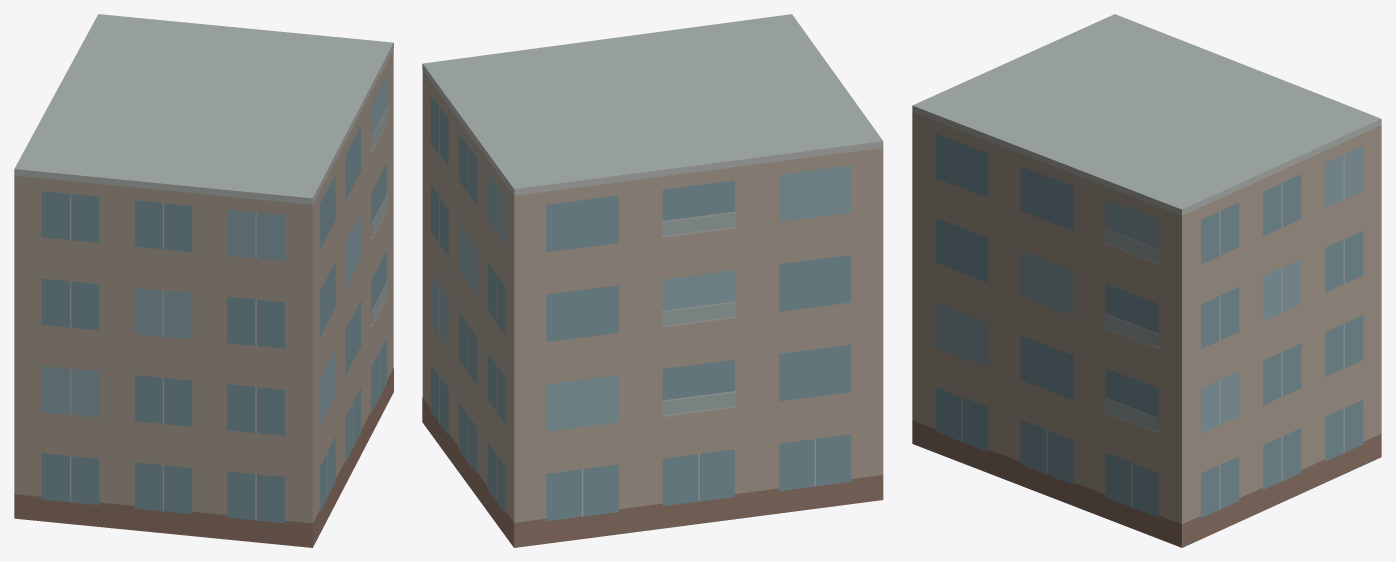
File: survey-upis-32886933.glb
3 views of the same model, side by side, from view 1: azimuth 30°, elevation 25°; view 2: azimuth 150°, elevation 25°; view 3: azimuth 270°, elevation 25° (orthographic). The views are drawn at different scales.
Parts seen in each view (by area): view 1: survey-upis-32886933.tmp; view 2: survey-upis-32886933.tmp; view 3: survey-upis-32886933.tmp.
Part boxes in pixels (x1=…): survey-upis-32886933.tmp: x1=14, y1=14, x2=393, y2=547; survey-upis-32886933.tmp: x1=422, y1=14, x2=883, y2=547; survey-upis-32886933.tmp: x1=912, y1=14, x2=1381, y2=547.
Bounding box in the file's own units: 16.38 × 13.2 × 16.61.
